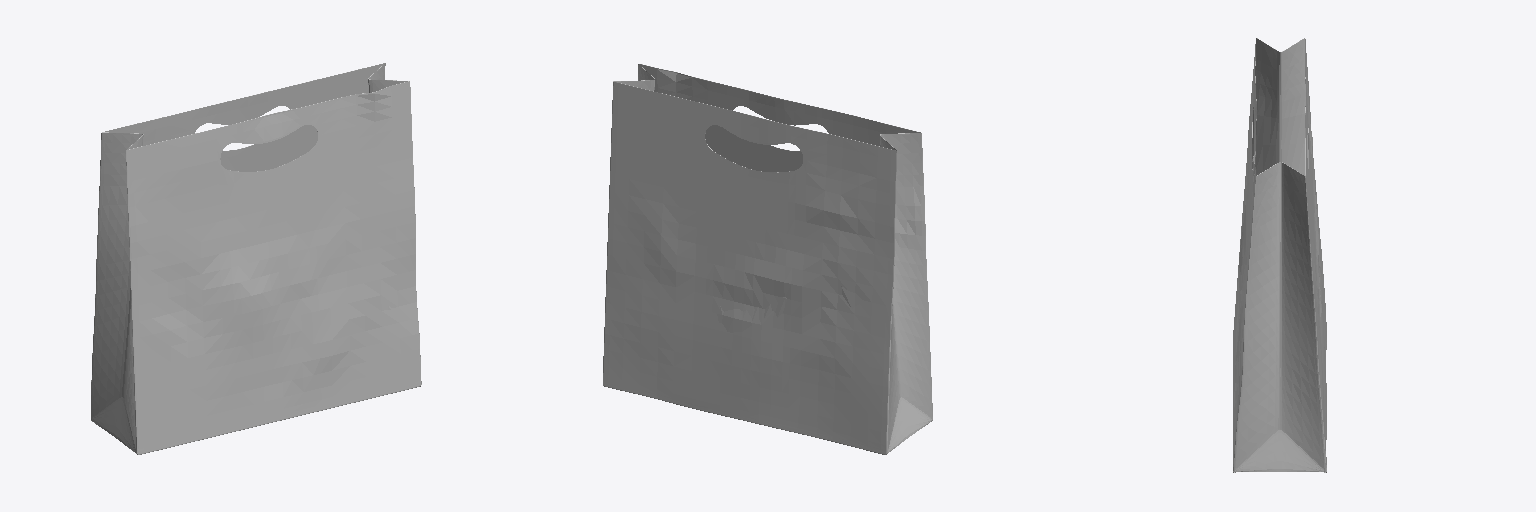
Rendered from bag-medium-shopping.obj.
The picture shows the model from 3 angles: view 1: azimuth 30°, elevation 25°; view 2: azimuth 150°, elevation 25°; view 3: azimuth 270°, elevation 25°; orthographic projection.
Visible parts, largest first — view 1: bag; view 2: bag; view 3: bag.
Part boxes in pixels (x1,y1,x2,y2): bag: (91, 63, 421, 454); bag: (603, 64, 932, 454); bag: (1233, 38, 1326, 472).
Bounding box in the file's own units: 0.2612 × 0.2615 × 0.0747.